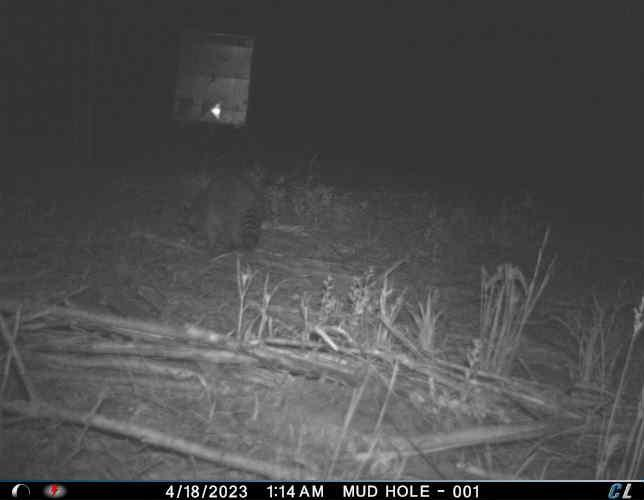Raccoon: (181, 167, 266, 256)
